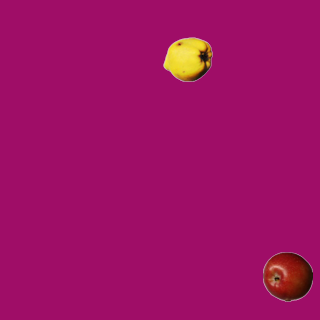Apple Braeburn: (262, 251, 312, 301)
Quince: (162, 34, 212, 84)
